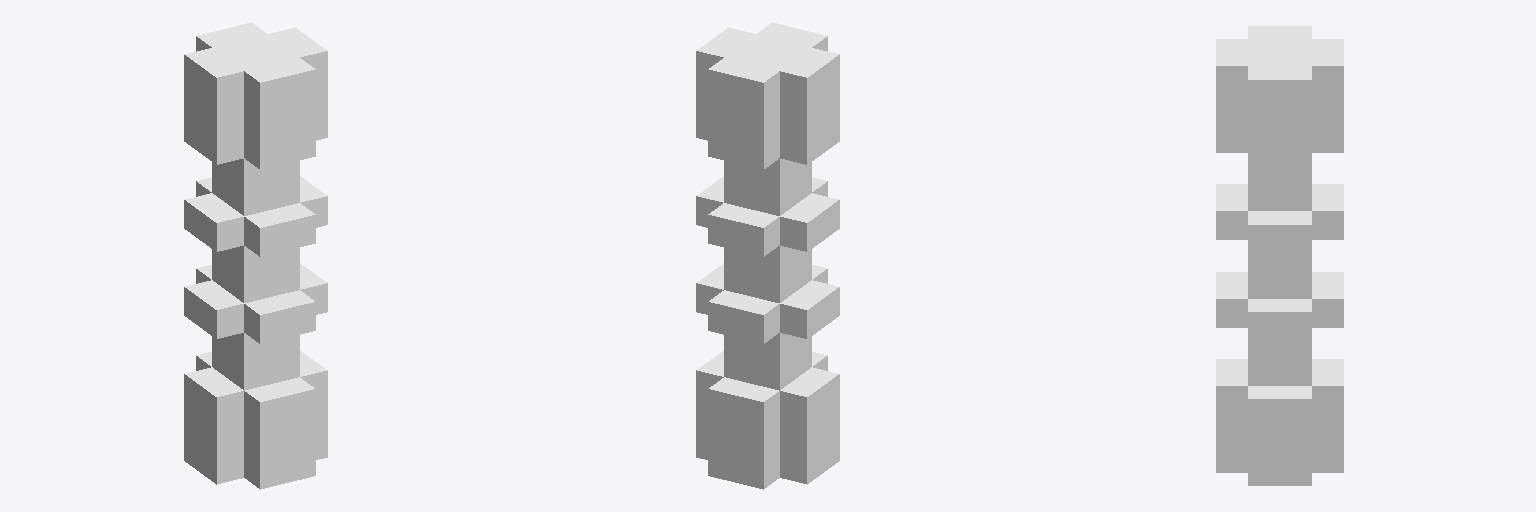
Rendered from Capsule_Scan_Scanner.obj.
3 renders of one model, left to right at view 1: azimuth 30°, elevation 25°; view 2: azimuth 150°, elevation 25°; view 3: azimuth 270°, elevation 25°, orthographic.
Parts seen in each view (by area): view 1: Capsule_Scan_Scanner; view 2: Capsule_Scan_Scanner; view 3: Capsule_Scan_Scanner.
Part boxes in pixels (x1,y1,x2,y2): Capsule_Scan_Scanner: (184,22,327,489); Capsule_Scan_Scanner: (696,22,839,489); Capsule_Scan_Scanner: (1216,26,1343,485).
Bounding box in the file's own units: 4 × 14 × 4.